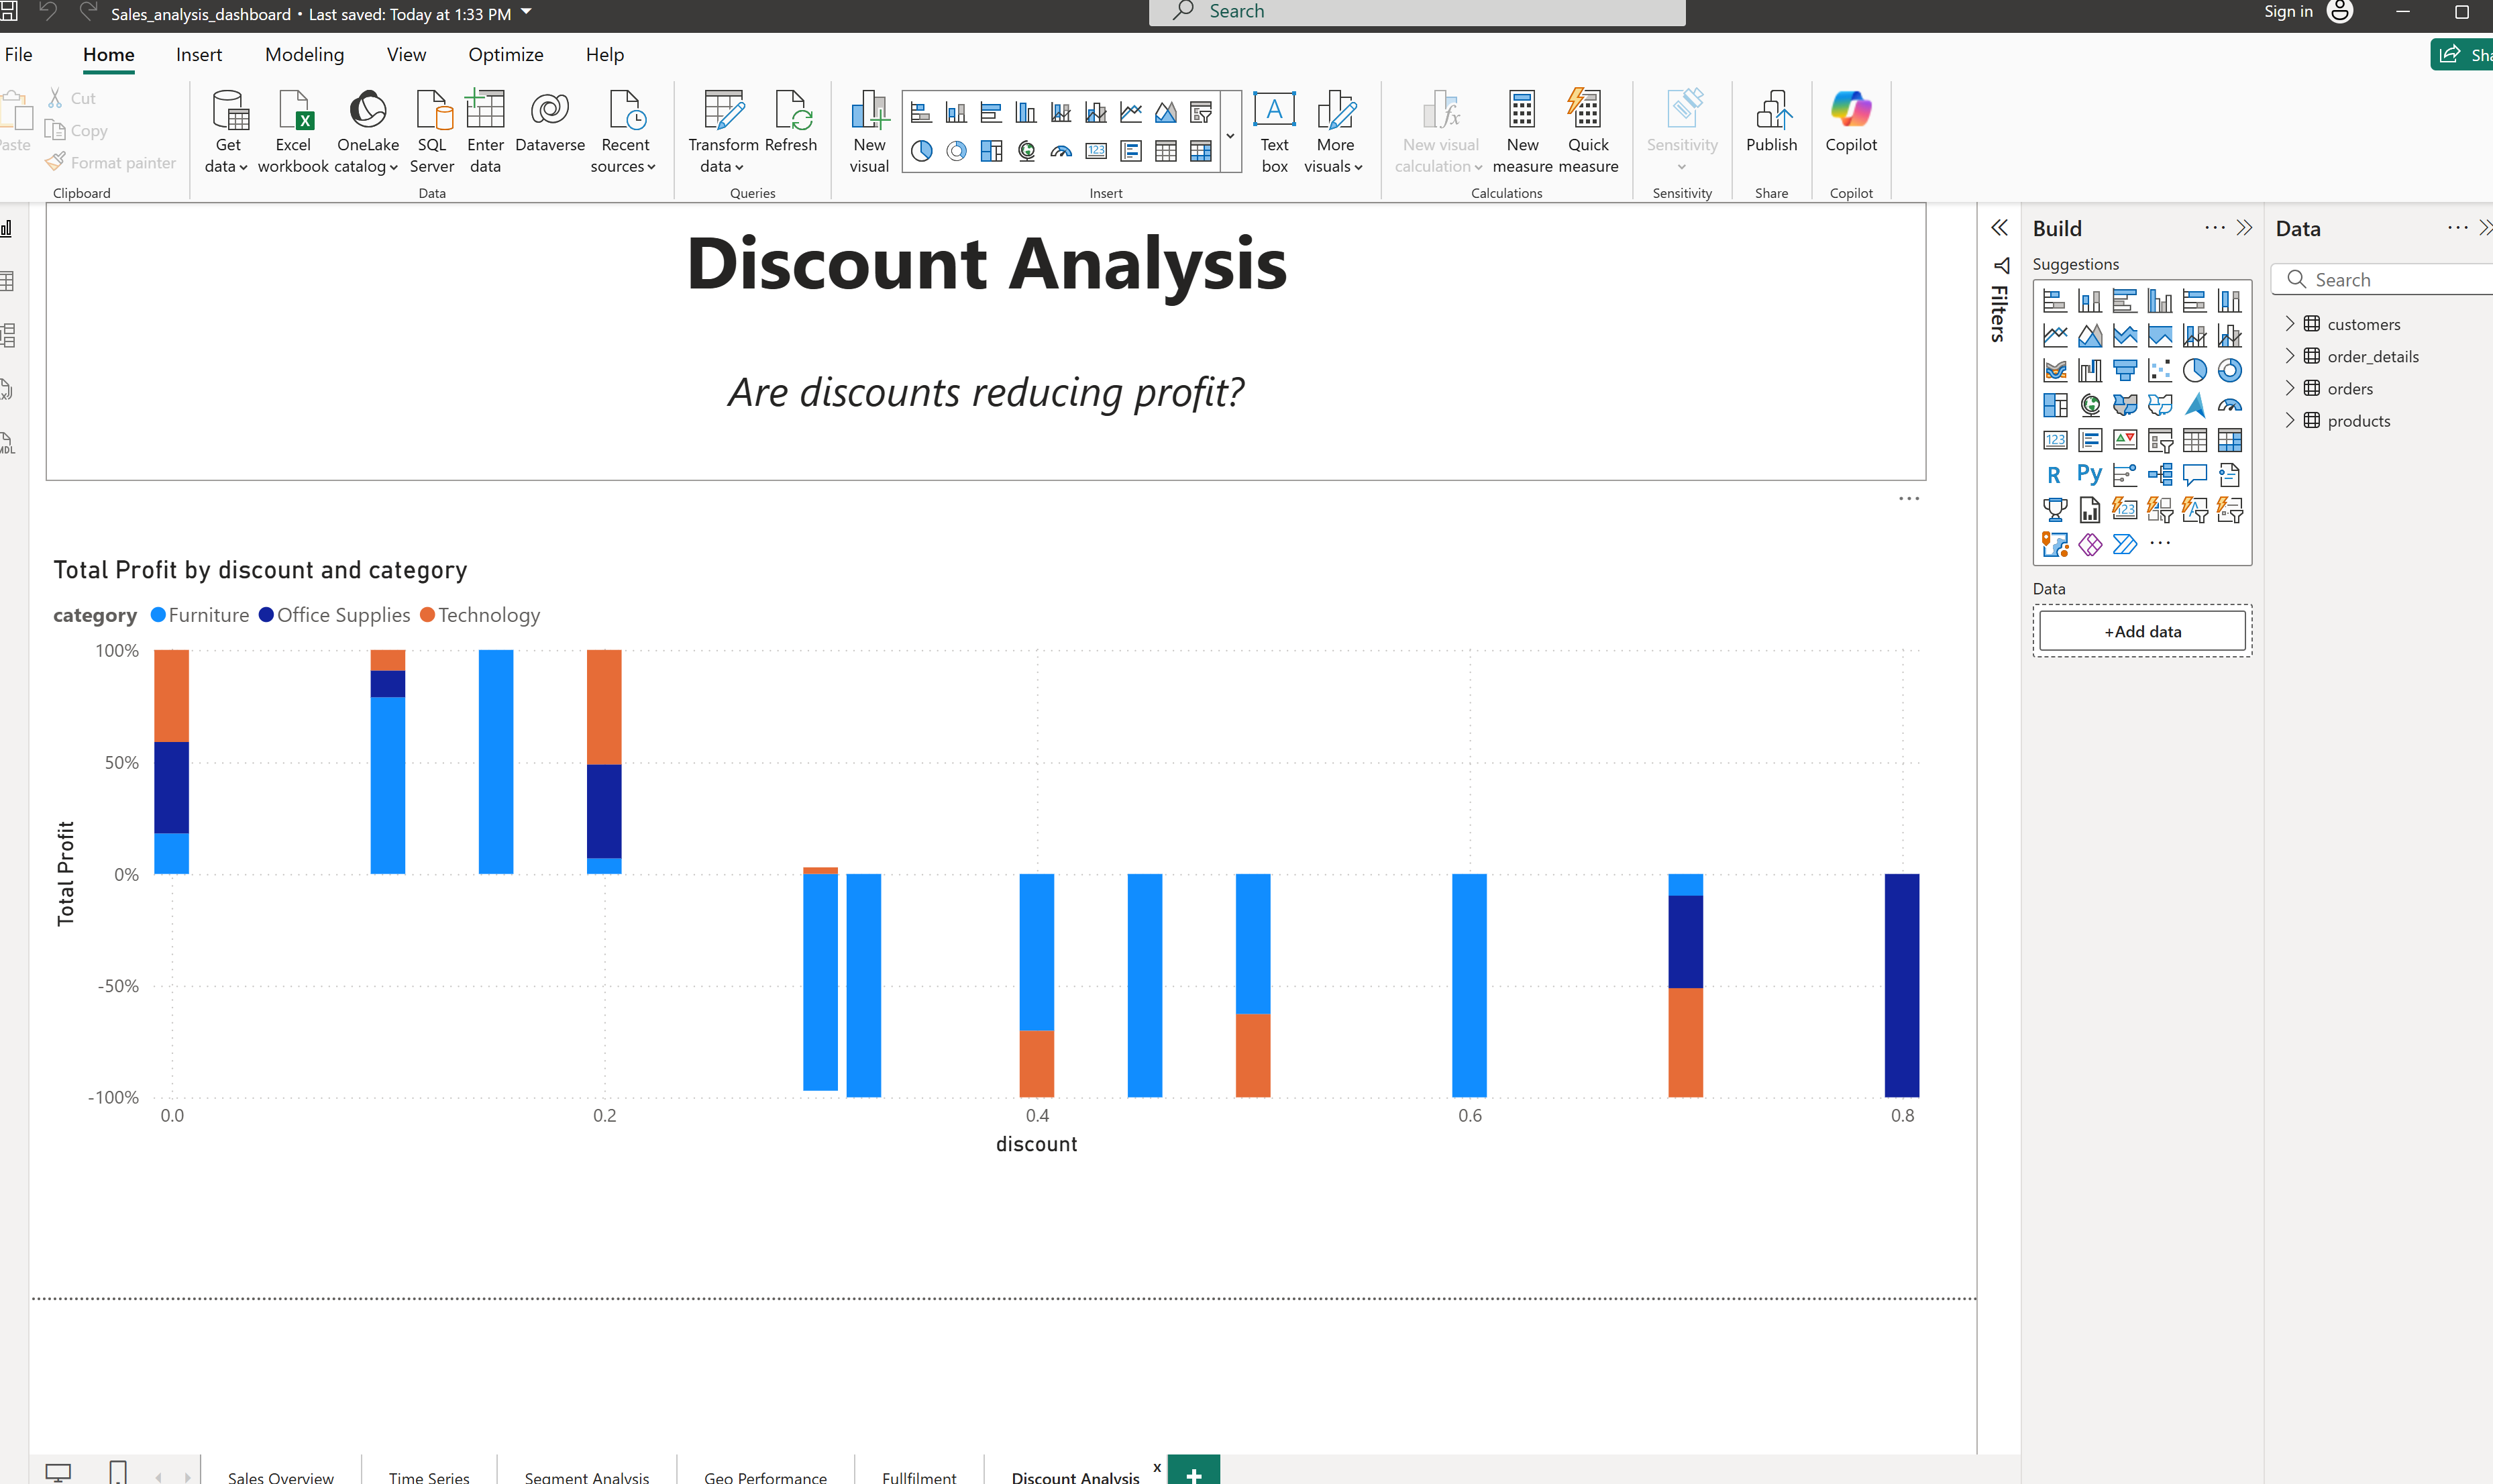

The dashboard page shown, as its layout file describes it:
{"tool":"powerbi","page":{"name":"Discount Analysis","canvas":[1280,720],"ordinal":5},"visuals":[{"type":"textbox","box":[10.5,0,1237,183.5],"z":0},{"type":"hundredPercentStackedColumnChart","fields":{"Category":["order_details.discount"],"Y":["order_details.Total Profit"],"Series":["products.category"]},"box":[10.5,232.3,1237,399.6],"z":1000}]}

Visuals, with their boxes on the page's 1280x720 design canvas (x1, y1, x2, y2). These are canvas units, not pixel positions in the 2493x1484 screenshot, which may show the page scaled, cropped or inside an application window:
textbox: (x1=10, y1=0, x2=1248, y2=184)
hundredPercentStackedColumnChart - order_details.discount x order_details.Total Profit: (x1=10, y1=232, x2=1248, y2=632)
